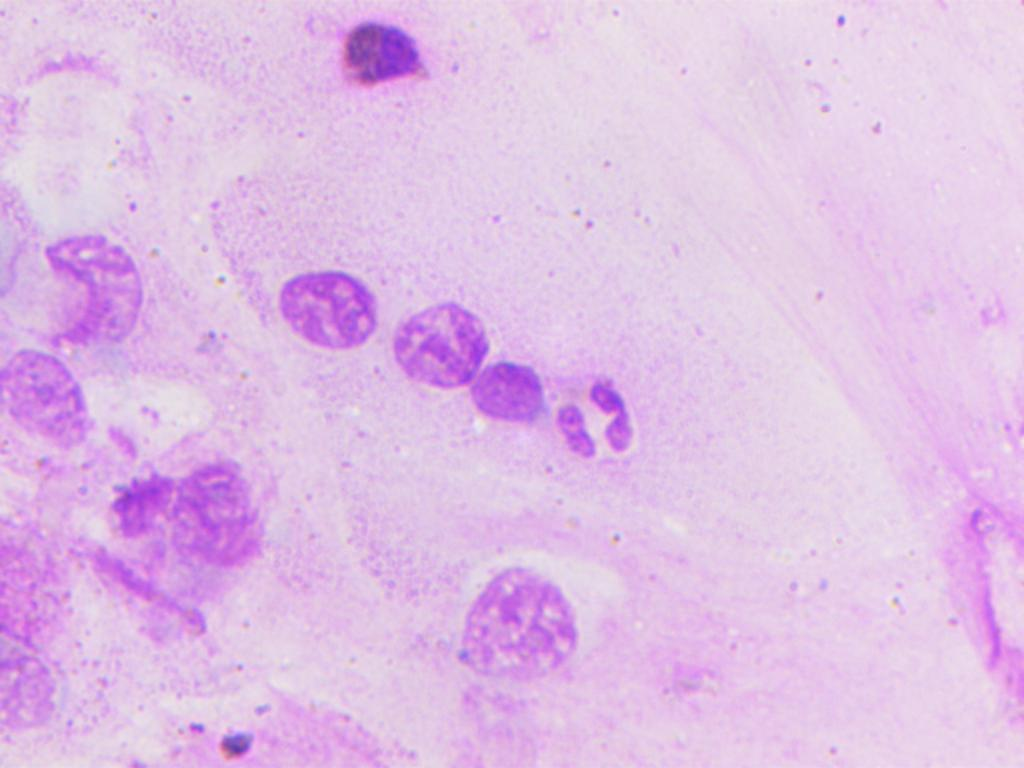eosinophil: (340, 18, 437, 95)
epithelial: (454, 562, 582, 689), (43, 227, 149, 351), (166, 443, 259, 581), (260, 266, 378, 368), (387, 290, 489, 388), (1, 348, 94, 455), (467, 359, 548, 430)
neutrophil: (549, 366, 641, 480)
